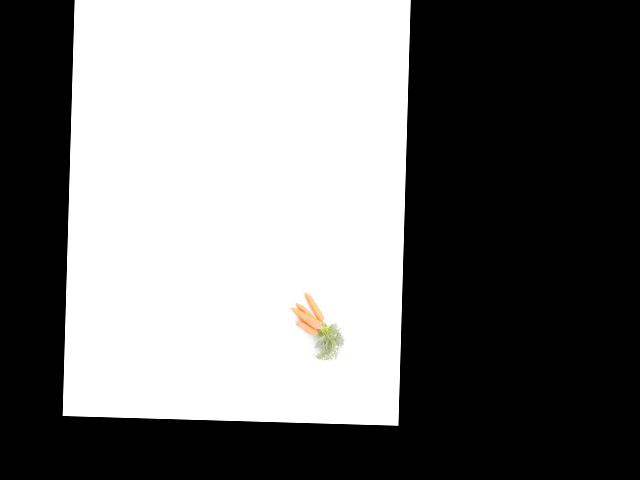carrot: (294, 323, 318, 337)
